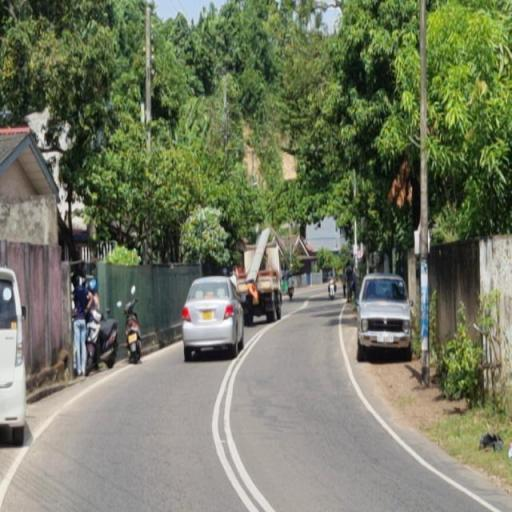double_white_line: (211, 300, 275, 512)
